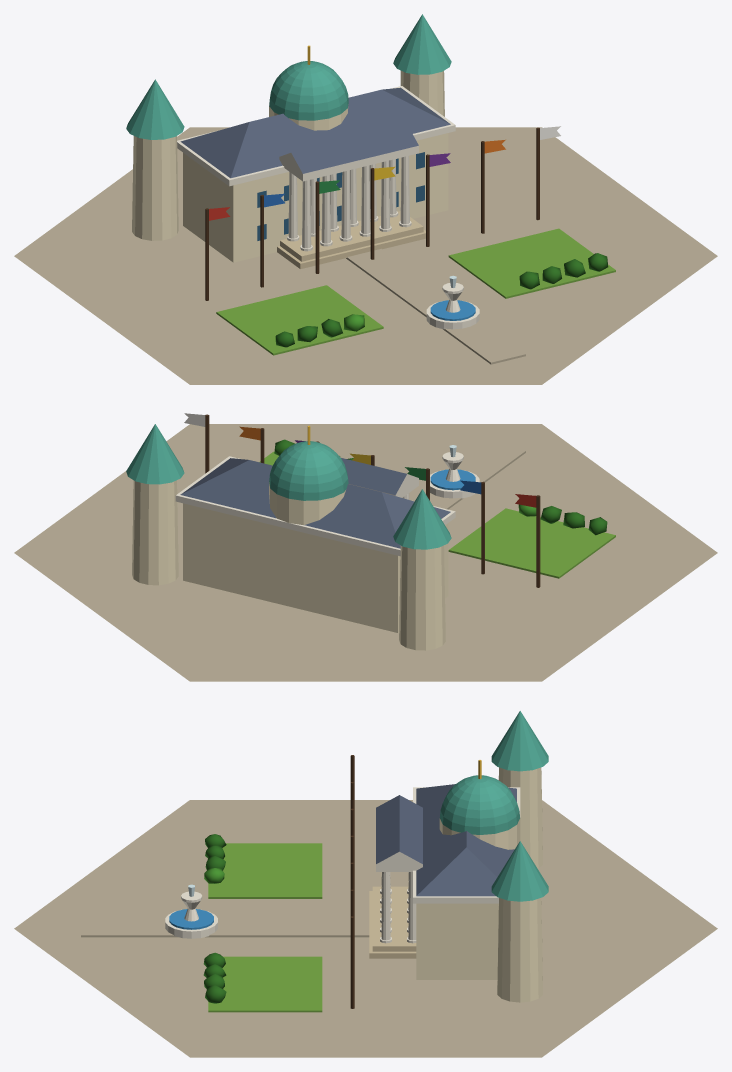
The model's file is district_diplomatic_quarter_3.fbx.
3 views of the same model, one above another, from view 1: azimuth 30°, elevation 25°; view 2: azimuth 150°, elevation 25°; view 3: azimuth 270°, elevation 25° (orthographic).
Visible parts, largest first — view 1: district_diplomatic_quarter_3; view 2: district_diplomatic_quarter_3; view 3: district_diplomatic_quarter_3.
Boxes of the visible parts, x1,y1,x2,y2 form: district_diplomatic_quarter_3: (14, 14, 717, 384); district_diplomatic_quarter_3: (14, 413, 717, 681); district_diplomatic_quarter_3: (14, 711, 717, 1057).
Bounding box in the file's own units: 182 × 55.45 × 210.
